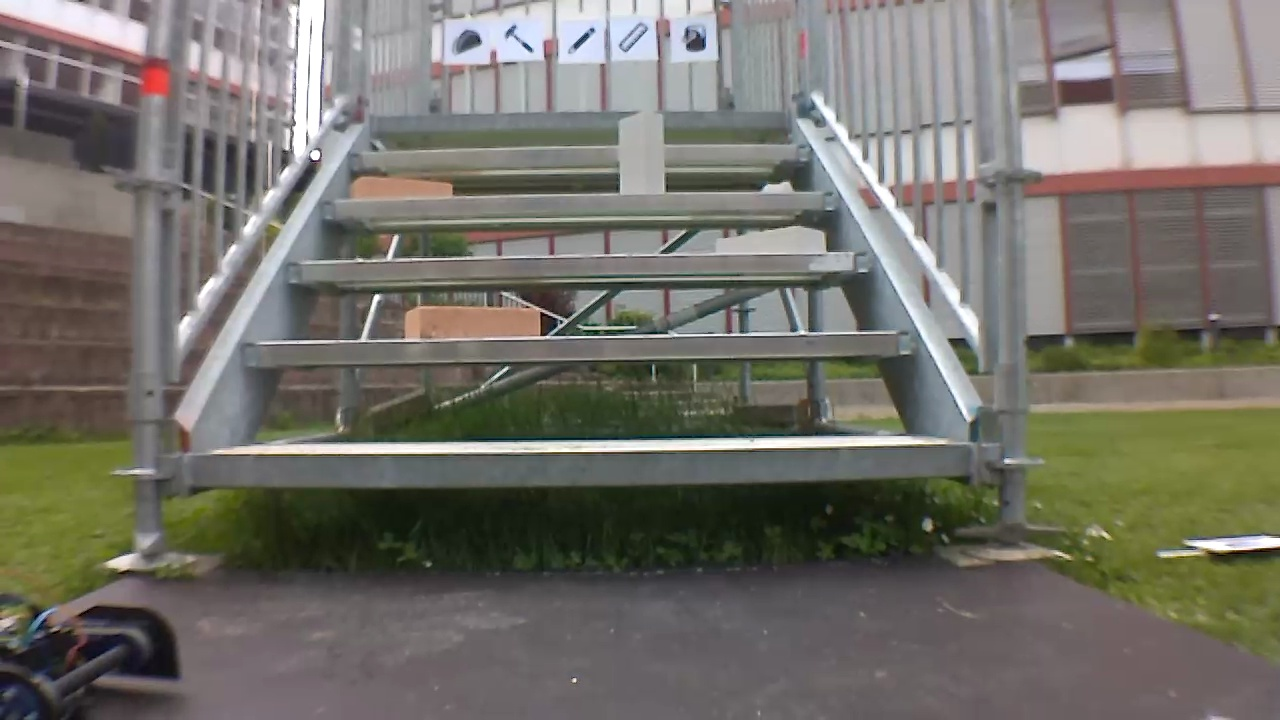brick: (405, 304, 539, 338), (618, 111, 664, 192), (716, 228, 825, 254), (349, 176, 452, 198)
bucket: (676, 20, 710, 54)
edge: (192, 443, 971, 487), (244, 330, 913, 363), (285, 251, 873, 276), (321, 191, 843, 212), (349, 144, 808, 165), (371, 111, 792, 129)
hammer: (499, 19, 538, 58)
pencil: (562, 22, 602, 57)
ruler: (617, 19, 651, 53)
stairs: (126, 3, 1043, 560)
steps: (183, 107, 978, 497)
taco: (450, 25, 484, 56)
